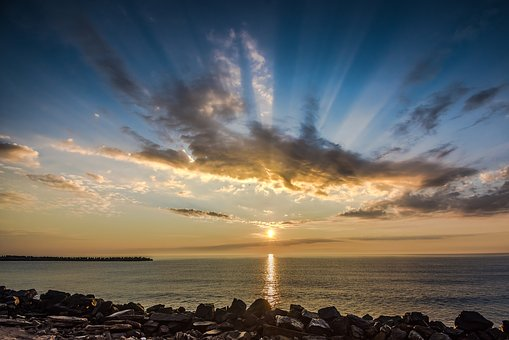sea: (6, 259, 508, 334)
sky: (12, 2, 506, 254)
